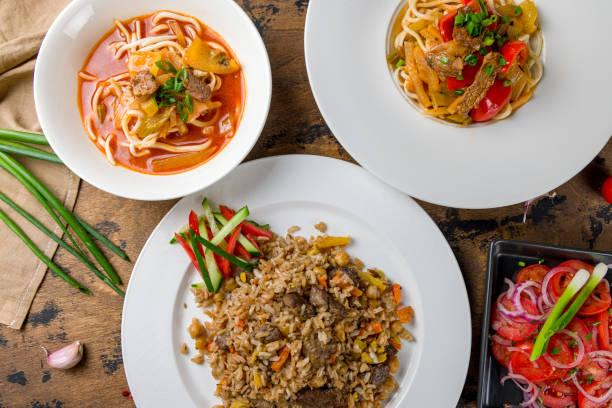Braised Crucian Carp: (124, 153, 467, 405), (307, 1, 608, 213), (33, 0, 267, 202)
